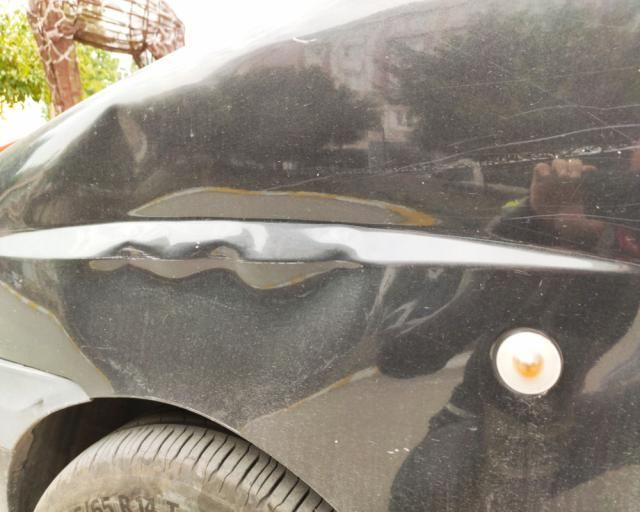dent: (56, 226, 368, 421), (67, 107, 160, 191)
